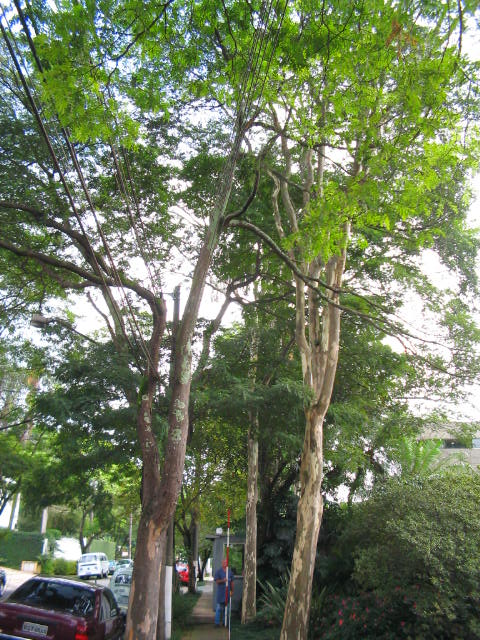stem: (278, 421, 344, 639), (117, 500, 180, 640), (236, 445, 269, 625)
stick: (219, 508, 235, 626)
